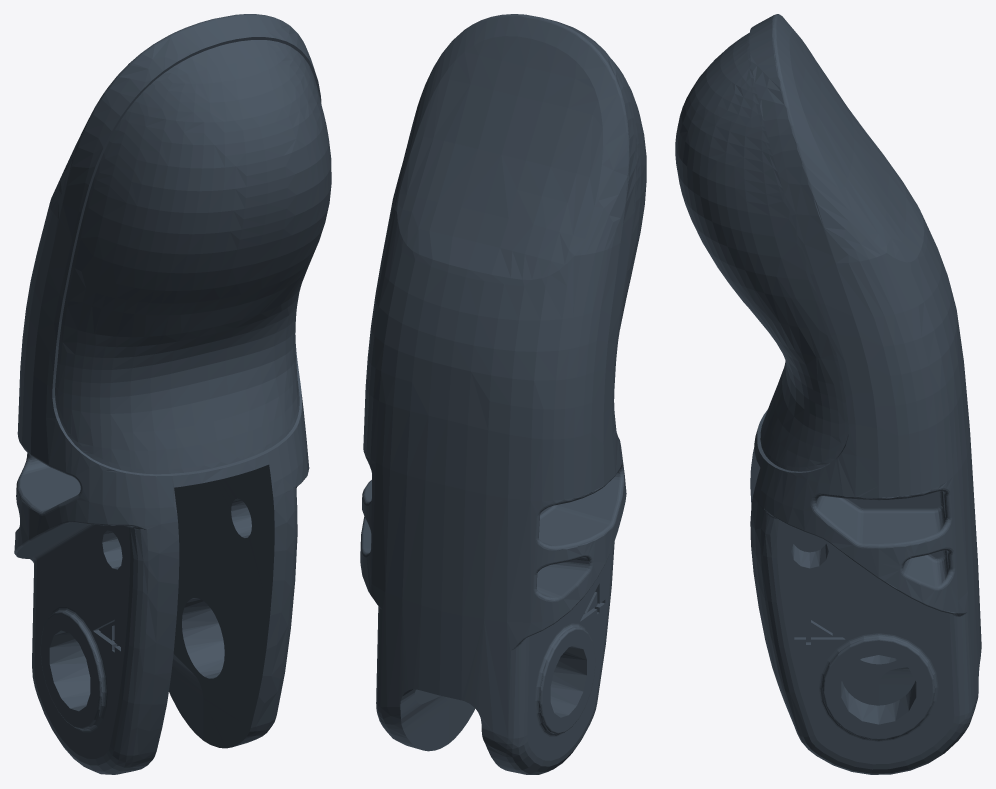
Rendered from lf_dip_link.glb.
3 views of the same model, side by side, from view 1: azimuth 30°, elevation 25°; view 2: azimuth 150°, elevation 25°; view 3: azimuth 270°, elevation 25° (orthographic). The views are drawn at different scales.
Parts seen in each view (by area): view 1: lf_dip; view 2: lf_dip; view 3: lf_dip.
Boxes of the visible parts, x1,y1,x2,y2 form: lf_dip: (14,14,331,774); lf_dip: (360,14,646,774); lf_dip: (675,14,981,774).
Bounding box in the file's own units: 0.0147 × 0.0422 × 0.0163.
